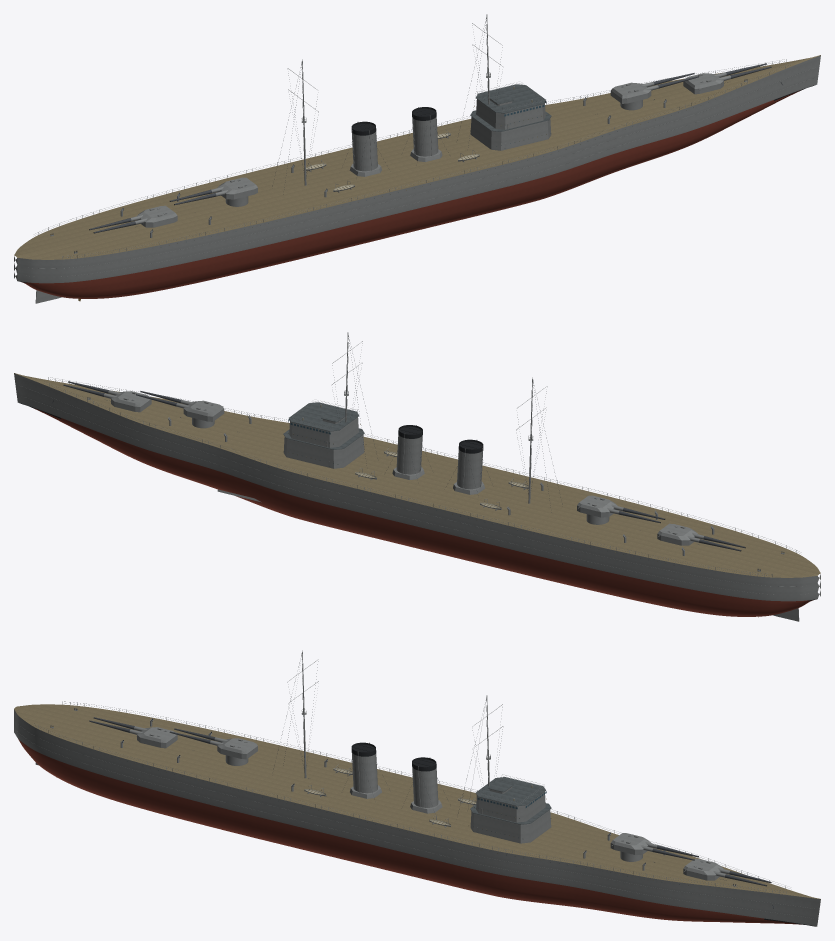
The model's file is number_13.glb.
3 views of the same model, one above another, from view 1: azimuth 30°, elevation 25°; view 2: azimuth 150°, elevation 25°; view 3: azimuth 330°, elevation 25° (orthographic).
Visible parts, largest first — view 1: Number 13 class (design study); view 2: Number 13 class (design study); view 3: Number 13 class (design study).
Part boxes in pixels (x1,y1,x2,y2): Number 13 class (design study): (14, 14, 820, 303); Number 13 class (design study): (14, 332, 820, 621); Number 13 class (design study): (14, 650, 820, 926).
Size of the model in its own units: 259 by 55.9 by 30.89.
9 materials, 8 textured.
